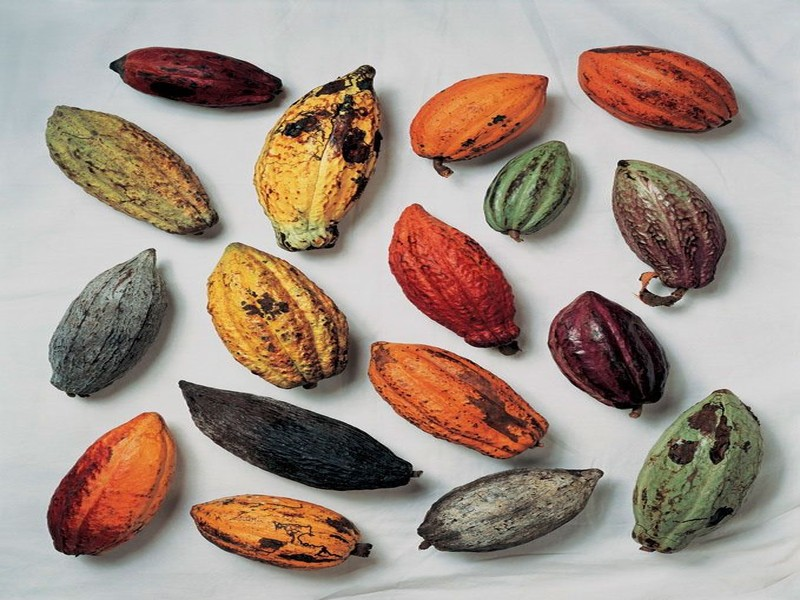Cacaopod: (386, 201, 526, 358), (206, 241, 352, 391), (45, 411, 178, 560), (46, 247, 167, 400), (415, 465, 605, 557), (612, 158, 729, 289), (575, 44, 741, 134), (546, 291, 673, 408), (189, 492, 376, 570), (408, 71, 550, 163), (107, 45, 287, 111)
